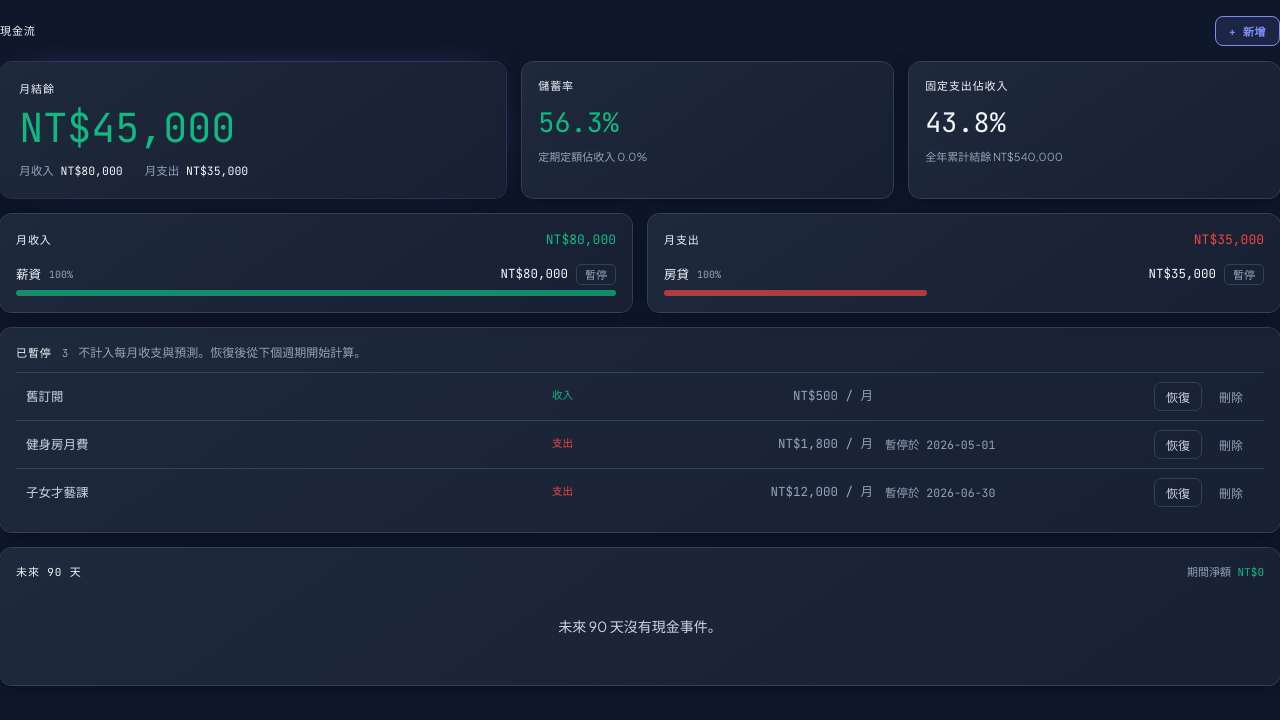
Scenario: WealthCashView: deleting › shows the server's reason and reloads when the flow changed under it
expect the text "月收入" is shown: met, box [16, 232, 52, 249]
expect the text "薪資" is shown: met, box [16, 265, 41, 284]
Click the button "刪除" in the row of "暫停於 2026-05-01" at (1231, 444), box [1208, 430, 1254, 459]
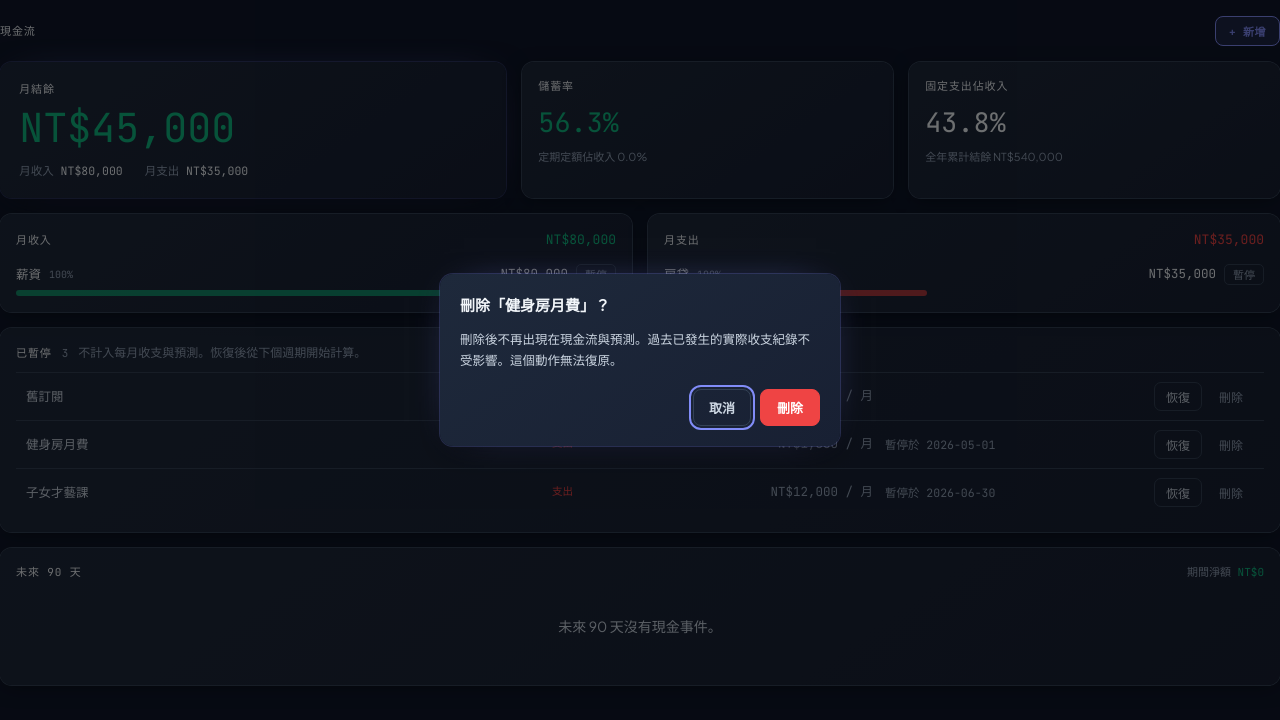
Click the button "刪除" at (790, 408), box [760, 389, 820, 426]
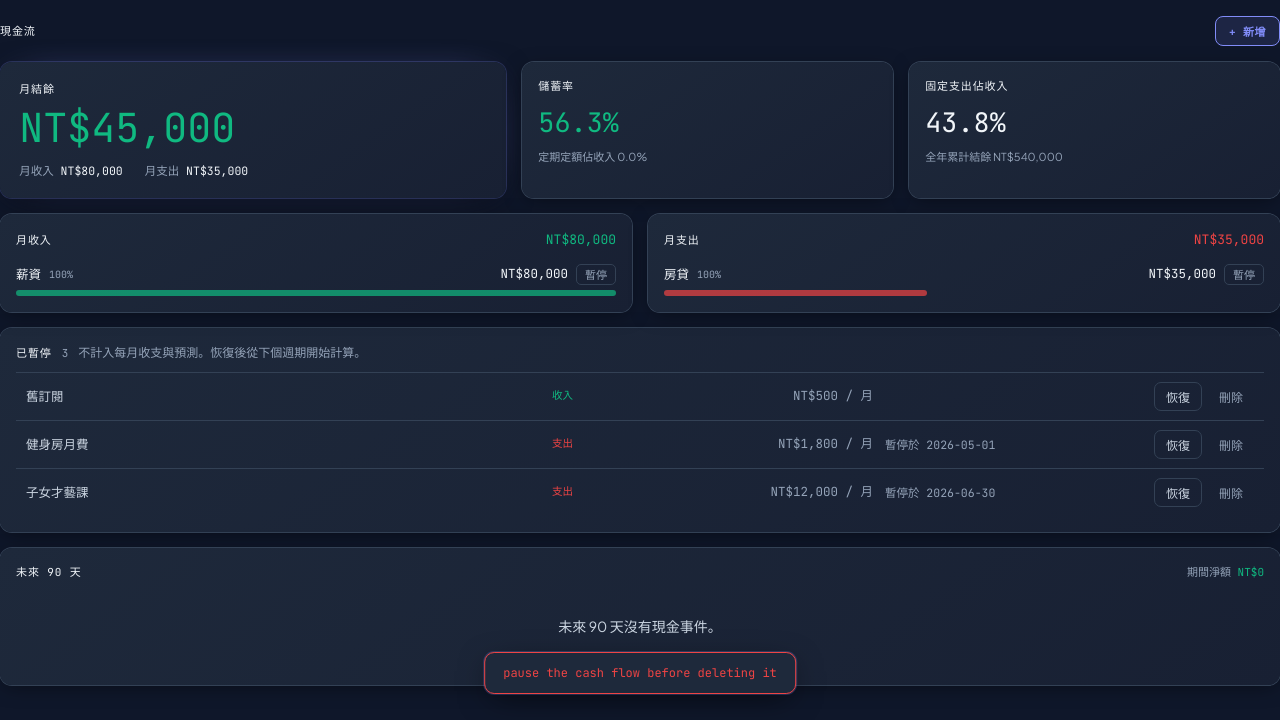
expect the text "pause the cash flow before deleting it" is shown: met, box [484, 652, 796, 694]
